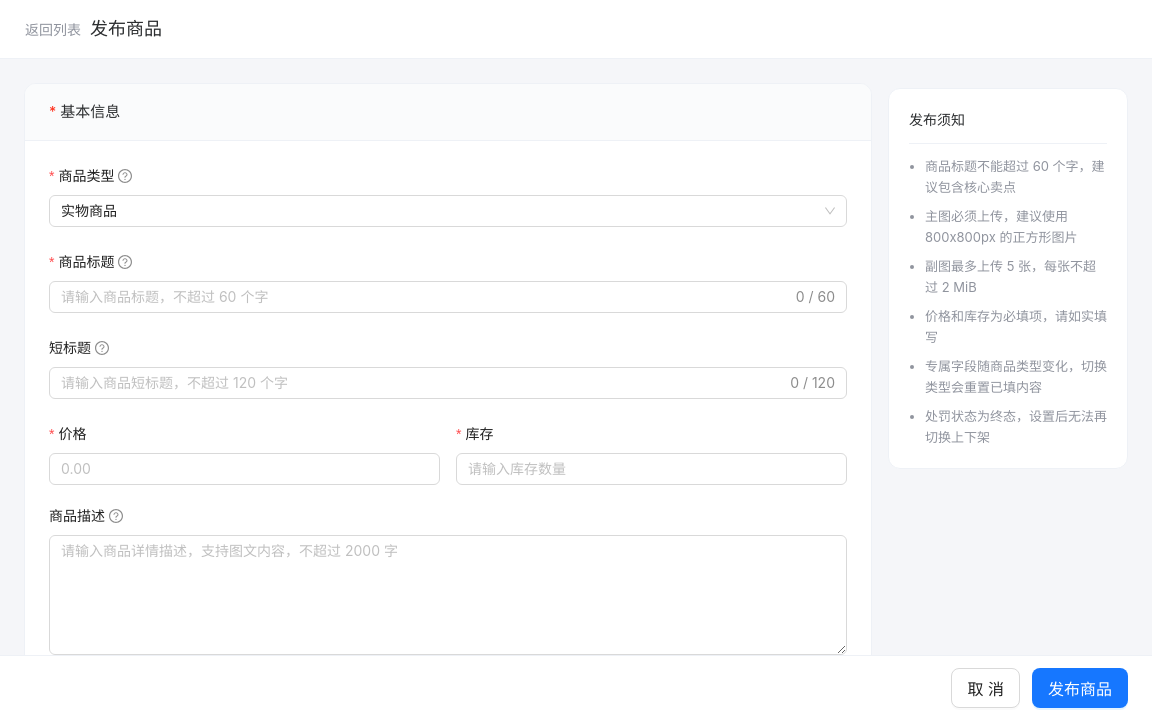
Test: ProductFormPage › 无主图时不能提交
Type "新商品" into the field labelled "商品标题" at (426, 297), box top-left (61, 286), bottom-right (792, 308)
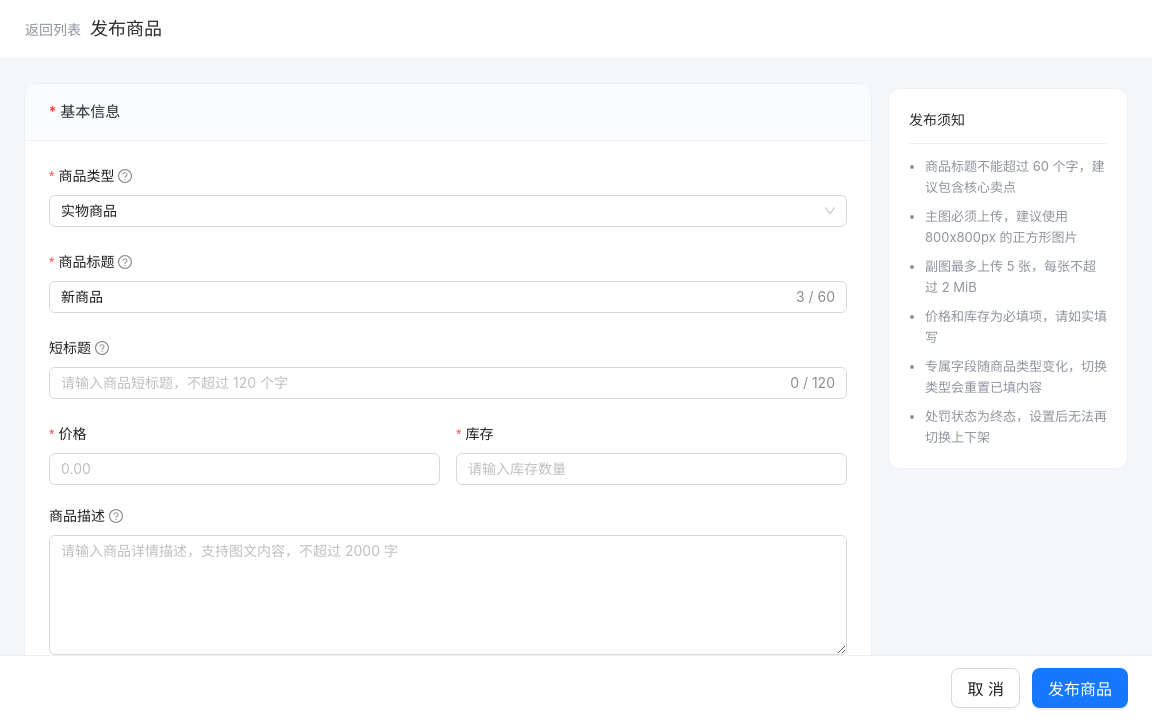
Type "新品" into the field labelled "短标题" at (424, 383), box top-left (61, 372), bottom-right (786, 394)
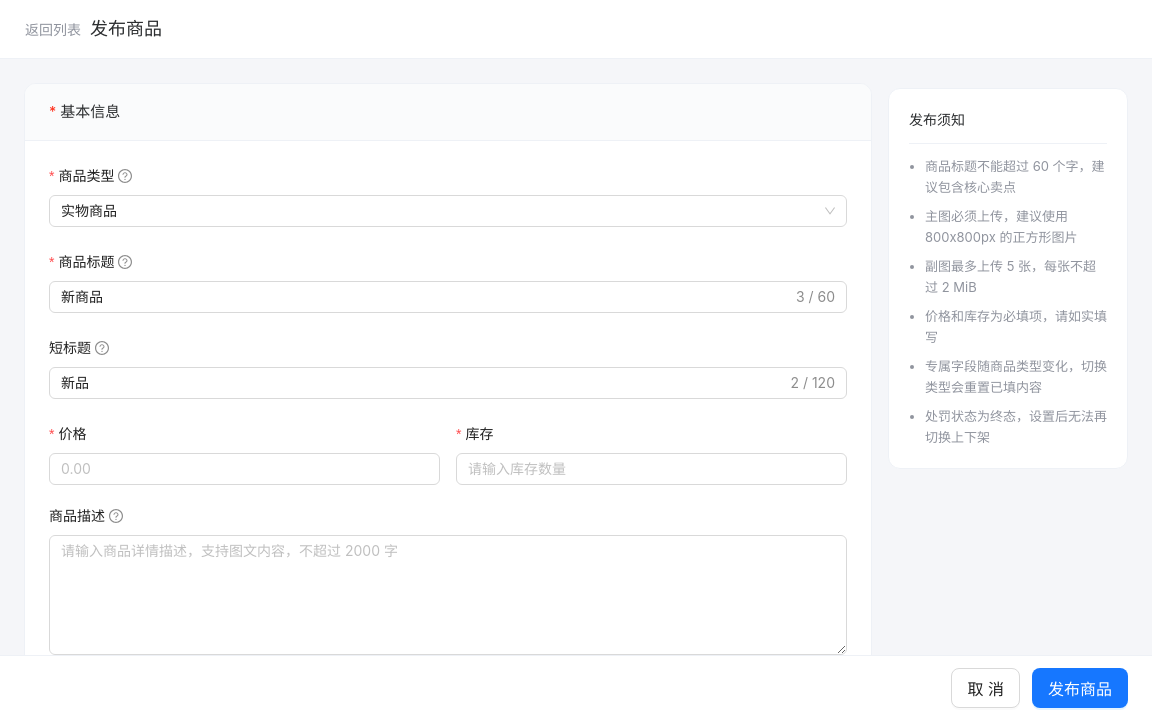
Type "19.90" into the field labelled "价格" at (244, 469), box top-left (49, 453), bottom-right (440, 485)
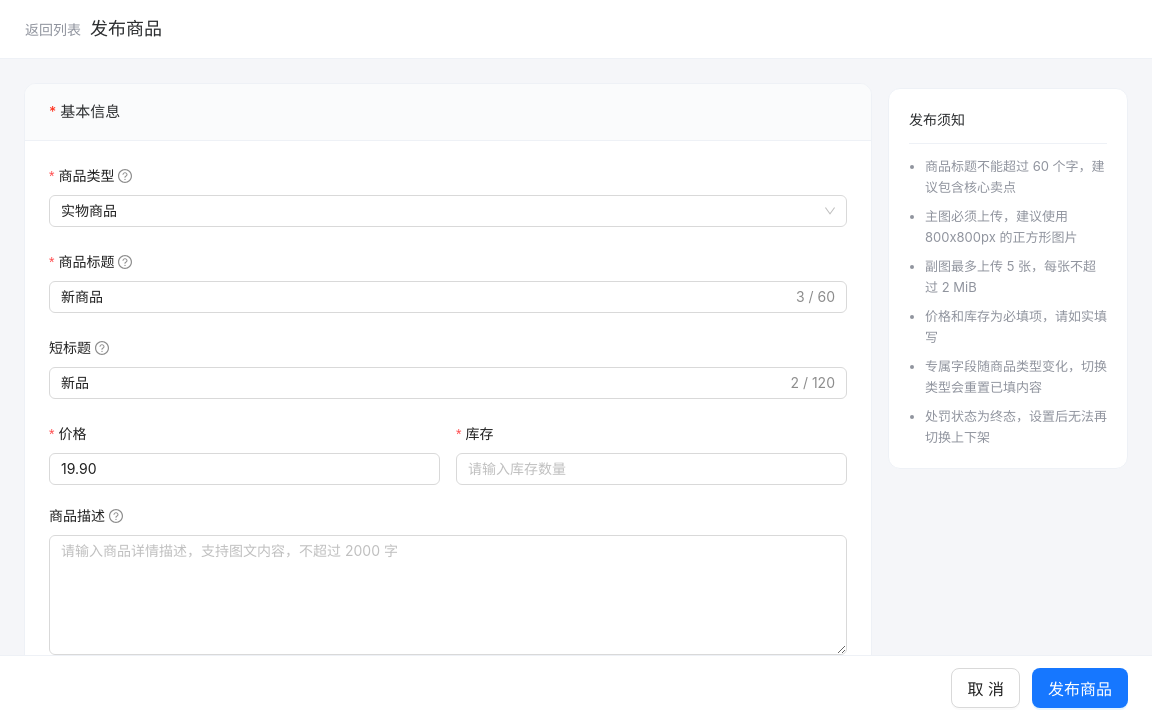
Type "5" into the number field labelled "库存" at (652, 469), box top-left (457, 454), bottom-right (846, 484)
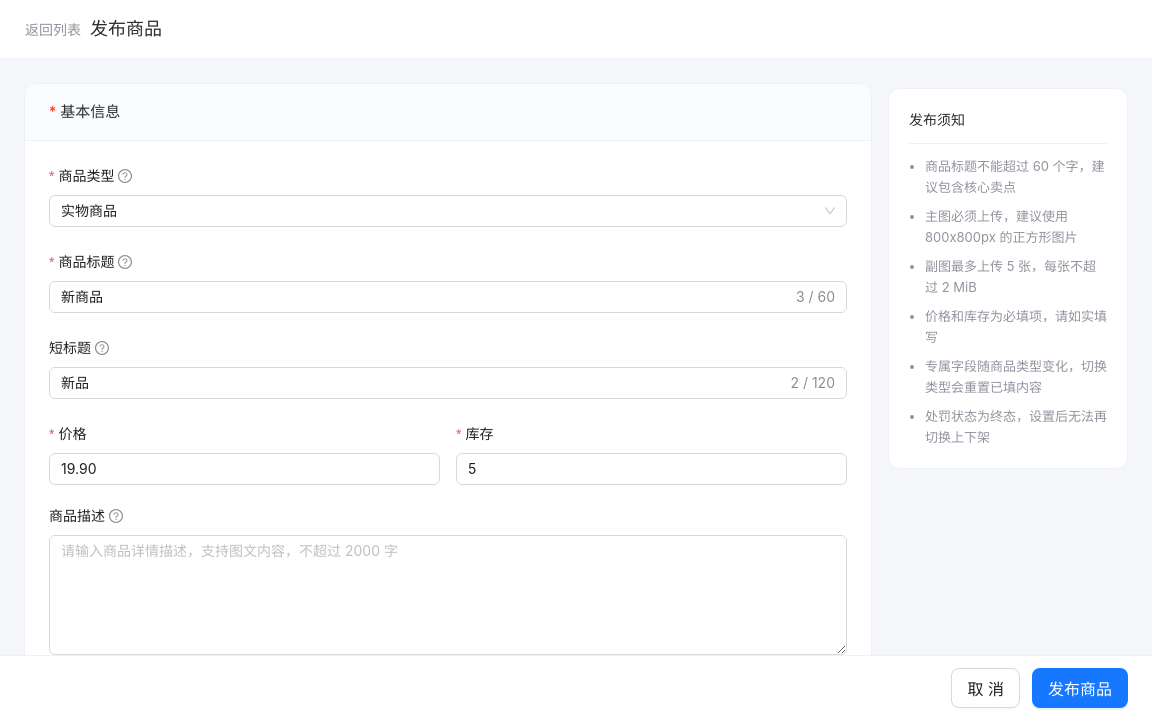
Type "描述" into the text box labelled "商品描述" at (448, 595), box top-left (50, 536), bottom-right (846, 654)
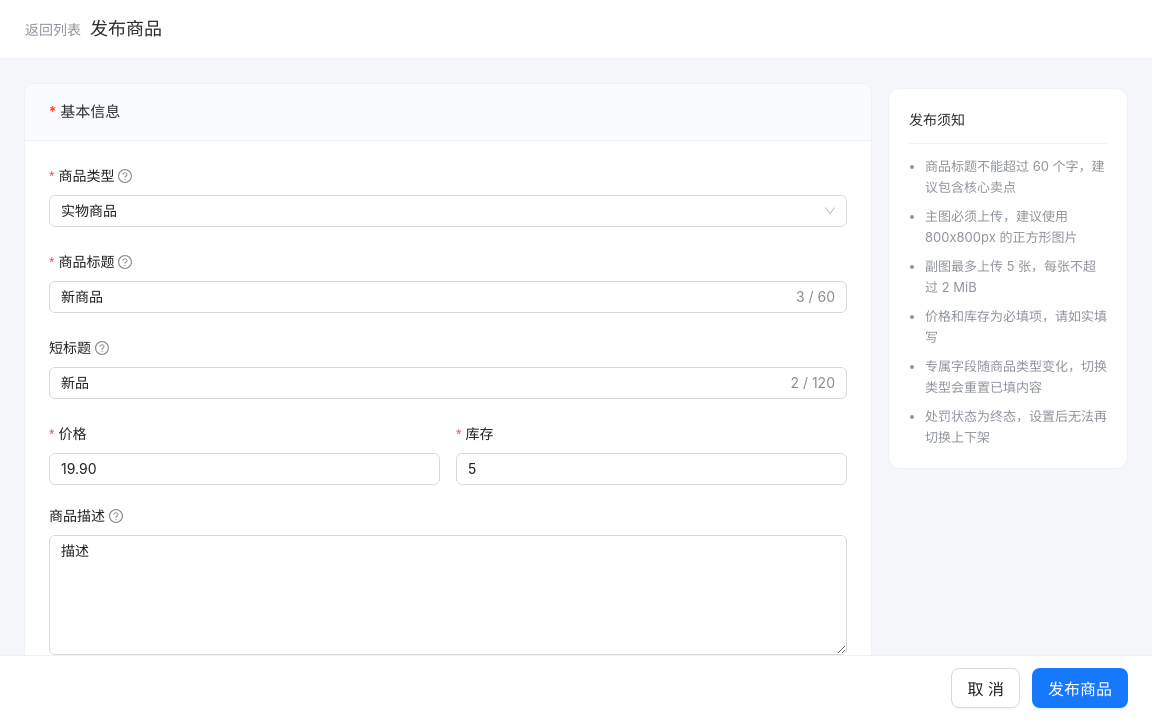
Click the button "发布商品" at (1080, 688), box top-left (1032, 668), bottom-right (1128, 708)
(page scrolled)
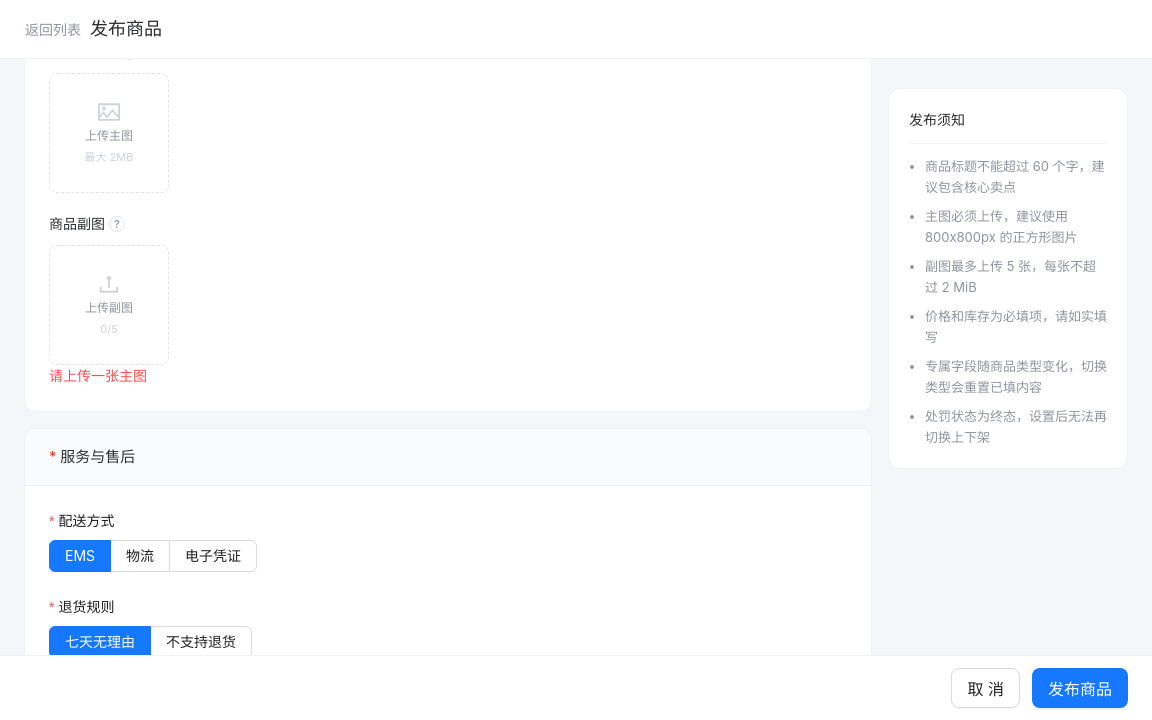
Check: the text "请上传一张主图" is shown, box top-left (49, 367), bottom-right (147, 384)
